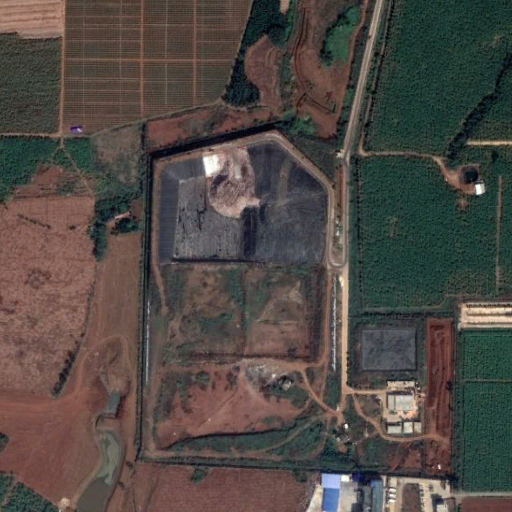lf: (155, 134, 323, 268)
